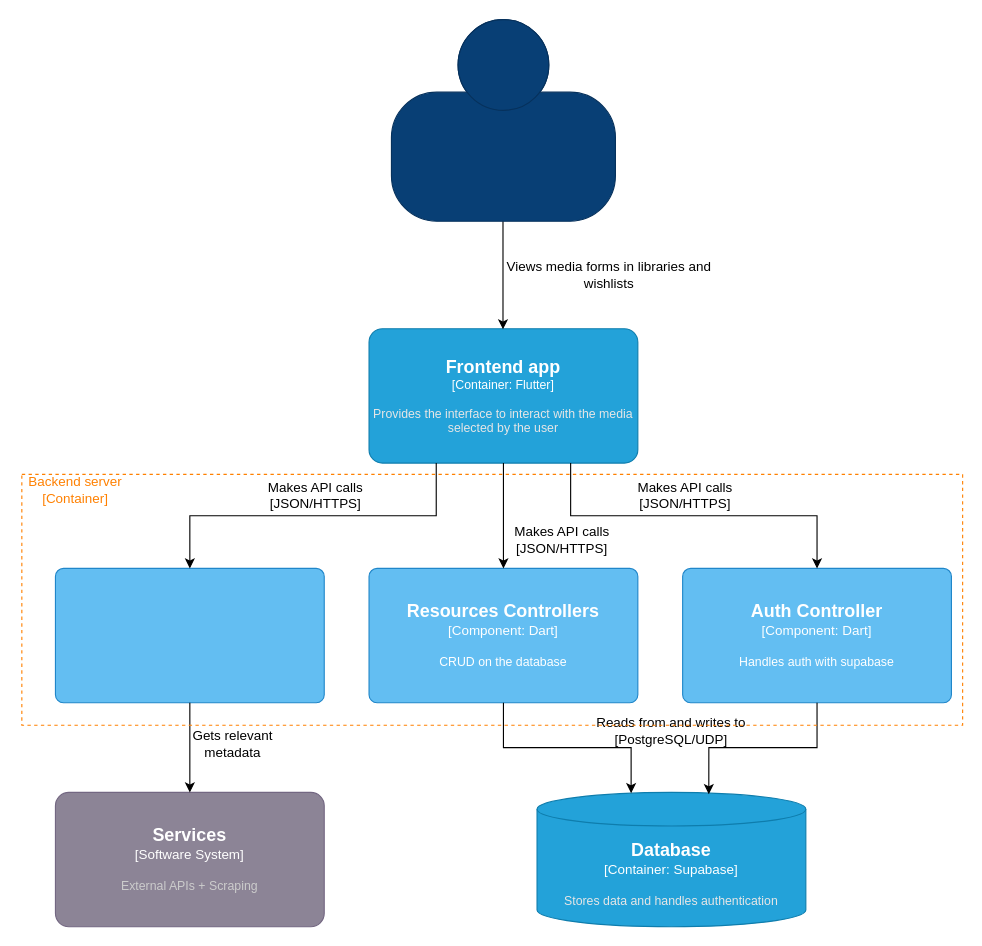
Some shapes in this 982 by 946 pixel diagram are drawn without their labels. Here are the shapes that lost their labels. From the top down, the centre of each, then its label:
At (x=502, y=119): "Media Consumer [Person] A media enjoyer".
At (x=189, y=635): "Services Controller [Component: Dart] Handles communication with Services System".
